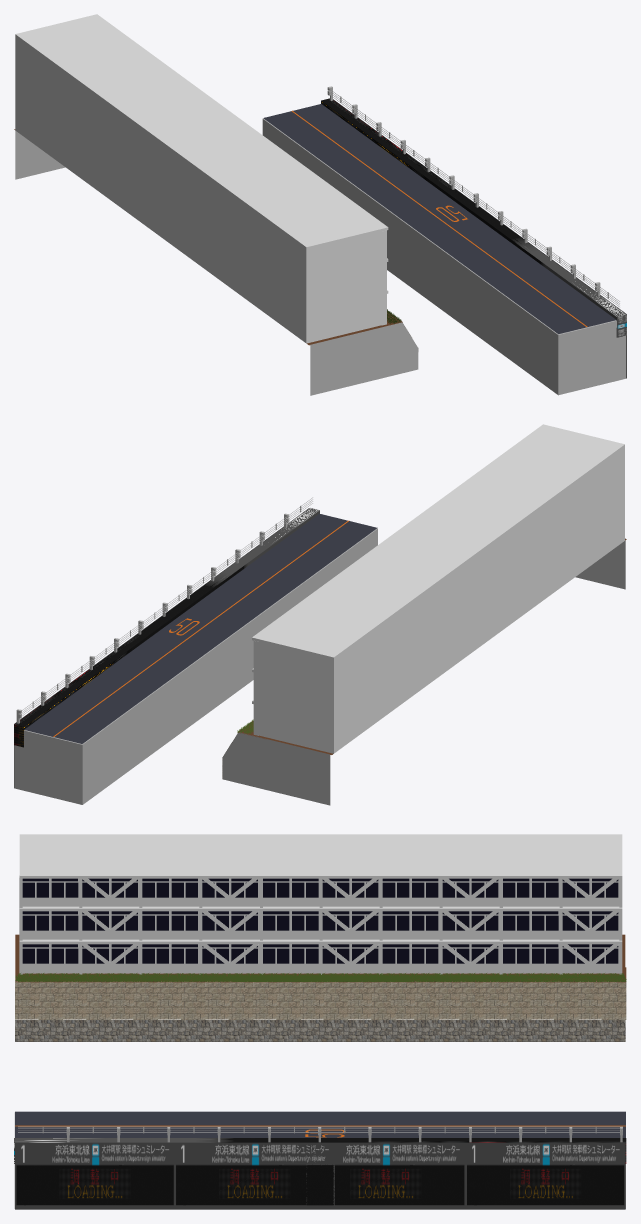
File: kamako.gltf
The picture shows the model from 3 angles, top to bottom: view 1: azimuth 30°, elevation 25°; view 2: azimuth 150°, elevation 25°; view 3: azimuth 270°, elevation 25°; orthographic projection. The views are drawn at different scales.
Parts seen in each view (by area): view 1: Cube.031, Cube.004, Cube, Cube.040, Cube.001, Cube.030, Cube.020, Cube.015; view 2: Cube.031, Cube.004, Cube, Cube.040, Cube.001, Cube.030, Cube.027, Cube.015; view 3: Cube.031, Cube, 7rigahama.003, 7rigahama, 7rigahama.001, 7rigahama.002, Cube.020, Cube.026, Cube.017, Cube.022, Cube.024, Cube.019 (+71 smaller).
Part boxes in pixels (x1,y1,x2,y2): Cube.031: (15,15,382,343); Cube.004: (262,118,626,395); Cube: (263,104,615,334); Cube.040: (15,131,418,395); Cube.001: (321,98,626,337); Cube.030: (92,14,388,231); Cube.020: (381,230,386,325); Cube.015: (291,110,587,326); Cube.031: (258,426,624,753); Cube.004: (14,528,377,804); Cube: (24,513,377,743); Cube.040: (222,538,625,805); Cube.001: (14,508,319,747); Cube.030: (252,424,549,641); Cube.027: (253,640,258,735); Cube.015: (53,520,349,736); Cube.031: (19,834,622,873); Cube: (15,1111,625,1137); 7rigahama.003: (465,1142,625,1209); 7rigahama: (15,1142,174,1209); 7rigahama.001: (175,1142,334,1209); 7rigahama.002: (306,1142,465,1209); Cube.020: (19,875,79,974); Cube.026: (499,878,559,974); Cube.017: (139,878,199,974); Cube.022: (379,878,439,974); Cube.024: (260,878,319,974); Cube.019: (79,878,139,974).
Size of the model in its own units: 32.3 by 20.11 by 52.1.
9 materials, 3 textured.
